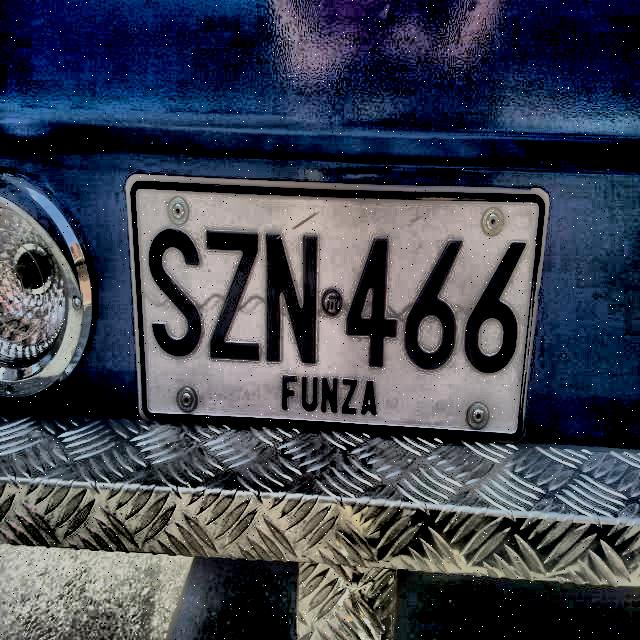4: (344, 235, 402, 374)
6: (455, 239, 532, 376), (402, 236, 464, 374)
N: (262, 230, 320, 368)
S: (146, 226, 202, 360)
Z: (202, 228, 262, 364)
